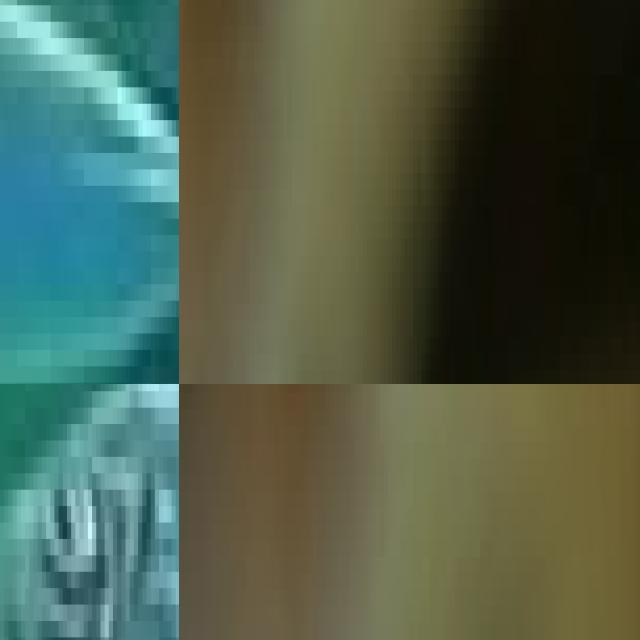fish: (0, 0, 179, 384), (0, 384, 179, 640)
